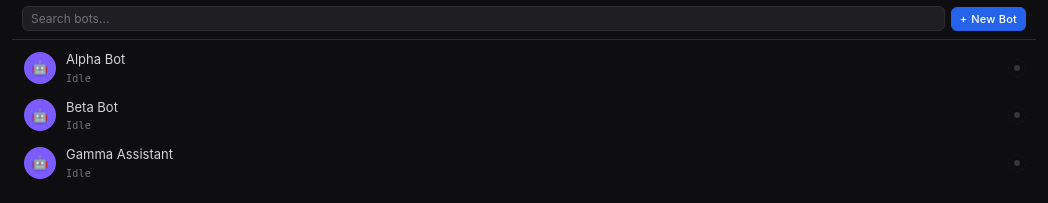
Scenario: BotRoster — search filter › filters by name (case-insensitive substring match)
The image size is (1048, 203).
Expected: the number of options with test id "bot-roster-item" is 3, [12,44,1036,92]; [12,92,1036,139]; [12,139,1036,186]
# Type "beta" — only the matching row remains.
In the field with test id "bot-roster-search": (483, 18) [22,6,945,31], type "beta"
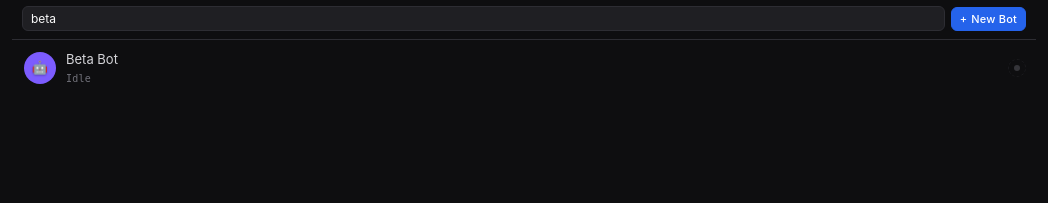
Expected: the number of options with test id "bot-roster-item" is 1, [12,44,1036,92]
